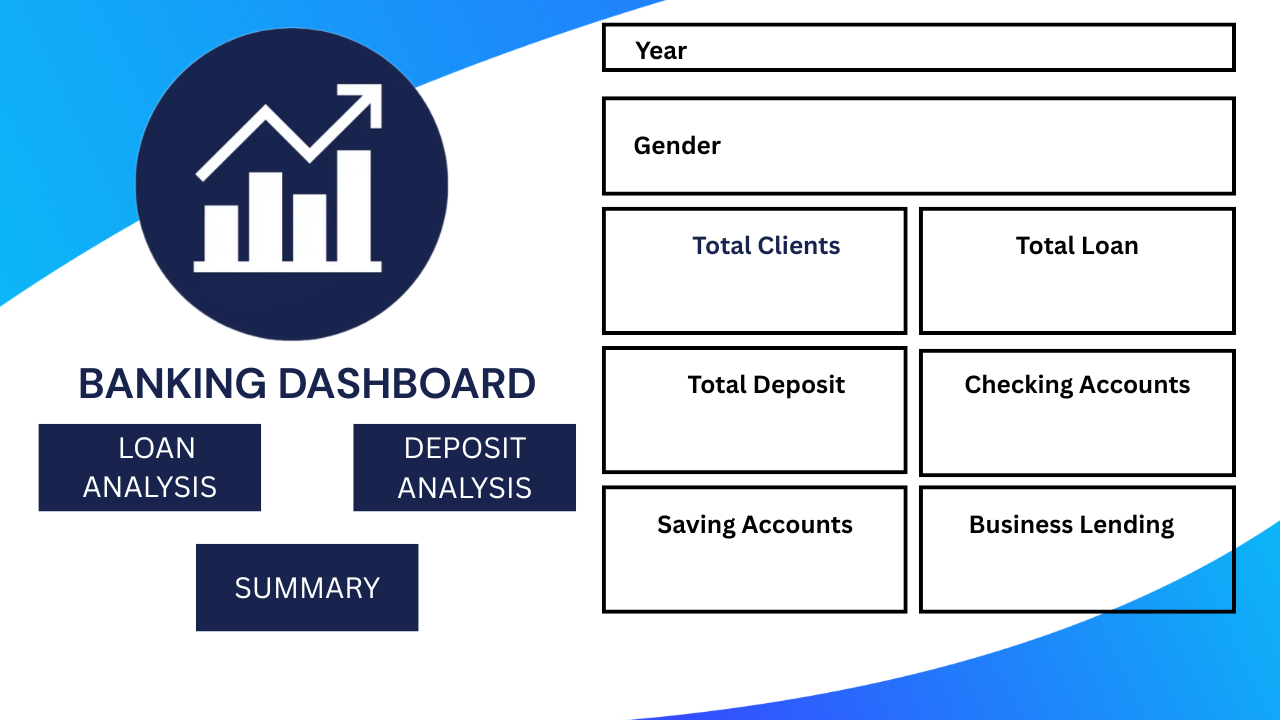

What the dashboard file says about the page in this screenshot:
{"tool":"powerbi","page":{"name":"Home","canvas":[1280,720],"ordinal":0},"visuals":[{"type":"card","fields":{"Values":["CountNonNull(Banking (1).Name)"]},"box":[654.5,248.4,200.3,74.1],"z":0},{"type":"slicer","fields":{"Values":["Banking (1).GenderId"]},"box":[716.3,107,500.9,76.8],"z":1000},{"type":"card","fields":{"Values":["Banking (1).Total Loan"]},"box":[967.4,216.8,222.3,137.2],"z":2000},{"type":"card","fields":{"Values":["Banking (1).Total Deposit"]},"box":[672.4,378.7,200.3,91.9],"z":3000},{"type":"card","fields":{"Values":["Sum(Banking (1).Checking Accounts)"]},"box":[931.7,373.2,273.1,97.4],"z":4000},{"type":"card","fields":{"Values":["Sum(Banking (1).Saving Accounts)"]},"box":[617.5,511.8,273.1,97.4],"z":5000},{"type":"card","fields":{"Values":["Sum(Banking (1).Business Lending)"]},"box":[944.1,511.8,273.1,97.4],"z":6000},{"type":"slicer","fields":{"Values":["Banking (1).Year of Joining"]},"box":[688.9,23.3,542,46.7],"z":7000},{"type":"actionButton","box":[38.6,422.3,223.2,89.3],"z":8000},{"type":"actionButton","box":[353.5,422.3,223.2,89.3],"z":9000},{"type":"actionButton","box":[195.4,542.9,223.2,89.3],"z":10000}]}

Visuals, with their boxes in screenshot pixels (x1, y1, x2, y2), scaled from the page's 1280x720 canvas onto the 1280x720 screenshot:
card - CountNonNull(Banking (1).Name): region(654, 248, 855, 322)
slicer - Banking (1).GenderId: region(716, 107, 1217, 184)
card - Banking (1).Total Loan: region(967, 217, 1190, 354)
card - Banking (1).Total Deposit: region(672, 379, 873, 471)
card - Sum(Banking (1).Checking Accounts): region(932, 373, 1205, 471)
card - Sum(Banking (1).Saving Accounts): region(618, 512, 891, 609)
card - Sum(Banking (1).Business Lending): region(944, 512, 1217, 609)
slicer - Banking (1).Year of Joining: region(689, 23, 1231, 70)
actionButton: region(39, 422, 262, 512)
actionButton: region(354, 422, 577, 512)
actionButton: region(195, 543, 419, 632)
